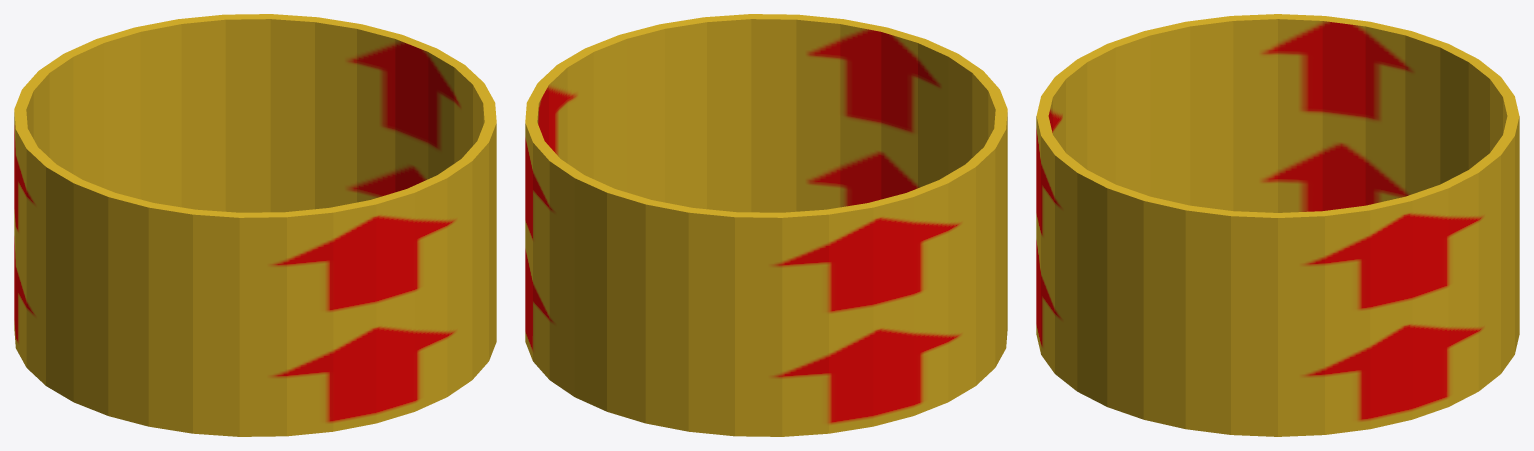
The model's file is Arch.fbx.
The picture shows the model from 3 angles, left to right: view 1: azimuth 30°, elevation 25°; view 2: azimuth 150°, elevation 25°; view 3: azimuth 270°, elevation 25°; orthographic projection.
Parts seen in each view (by area): view 1: arch; view 2: arch; view 3: arch.
Part boxes in pixels (bbox=[...]): arch: bbox=[14, 14, 496, 436]; arch: bbox=[525, 14, 1007, 436]; arch: bbox=[1036, 14, 1519, 436].
Size of the model in its own units: 2 by 1 by 2.
